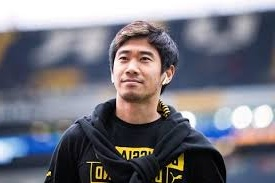earphone: (160, 65, 176, 85)
